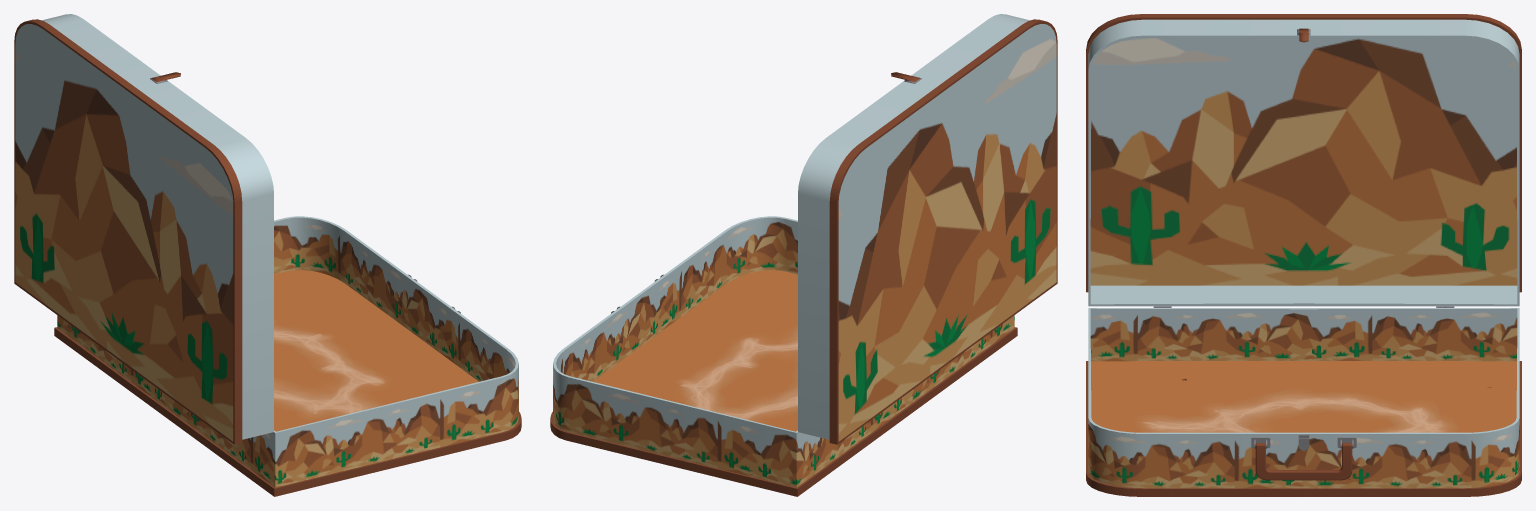
File: Koffer_Einzelobjekt.fbx
3 renders of one model, left to right at view 1: azimuth 30°, elevation 25°; view 2: azimuth 150°, elevation 25°; view 3: azimuth 270°, elevation 25°, orthographic.
Visible parts, largest first — view 1: Untere Schale; view 2: Untere Schale; view 3: Untere Schale.
Part boxes in pixels (left/top/right/bottom): Untere Schale: left=14, top=14, right=521, bottom=496; Untere Schale: left=550, top=14, right=1057, bottom=496; Untere Schale: left=1086, top=14, right=1521, bottom=496.
Bounding box in the file's own units: 5365 × 5584 × 6568.
